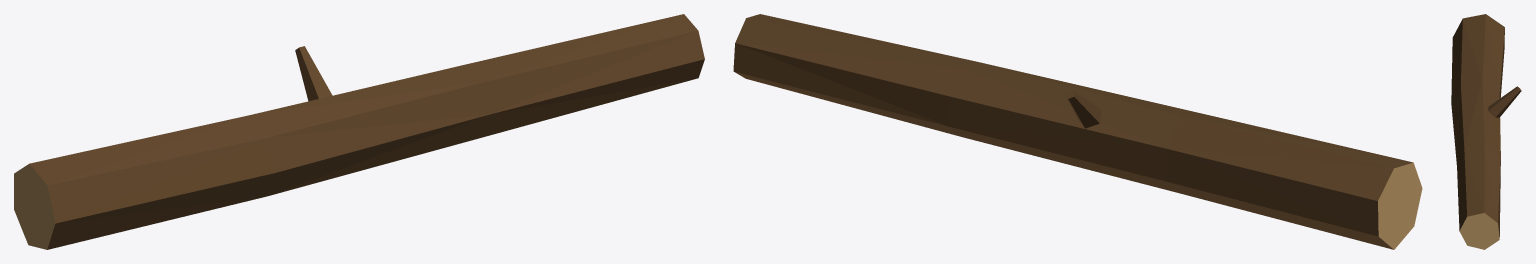
File: HS_LP_Log_02.fbx
The picture shows the model from 3 angles, left to right: view 1: azimuth 30°, elevation 25°; view 2: azimuth 150°, elevation 25°; view 3: azimuth 270°, elevation 25°; orthographic projection. The views are drawn at different scales.
Visible parts, largest first — view 1: HS_LP_Log_02; view 2: HS_LP_Log_02; view 3: HS_LP_Log_02.
Part boxes in pixels (x1=…): HS_LP_Log_02: x1=14, y1=14, x2=704, y2=249; HS_LP_Log_02: x1=733, y1=14, x2=1422, y2=249; HS_LP_Log_02: x1=1451, y1=14, x2=1521, y2=249.
Size of the model in its own units: 231 by 36 by 35.41.
